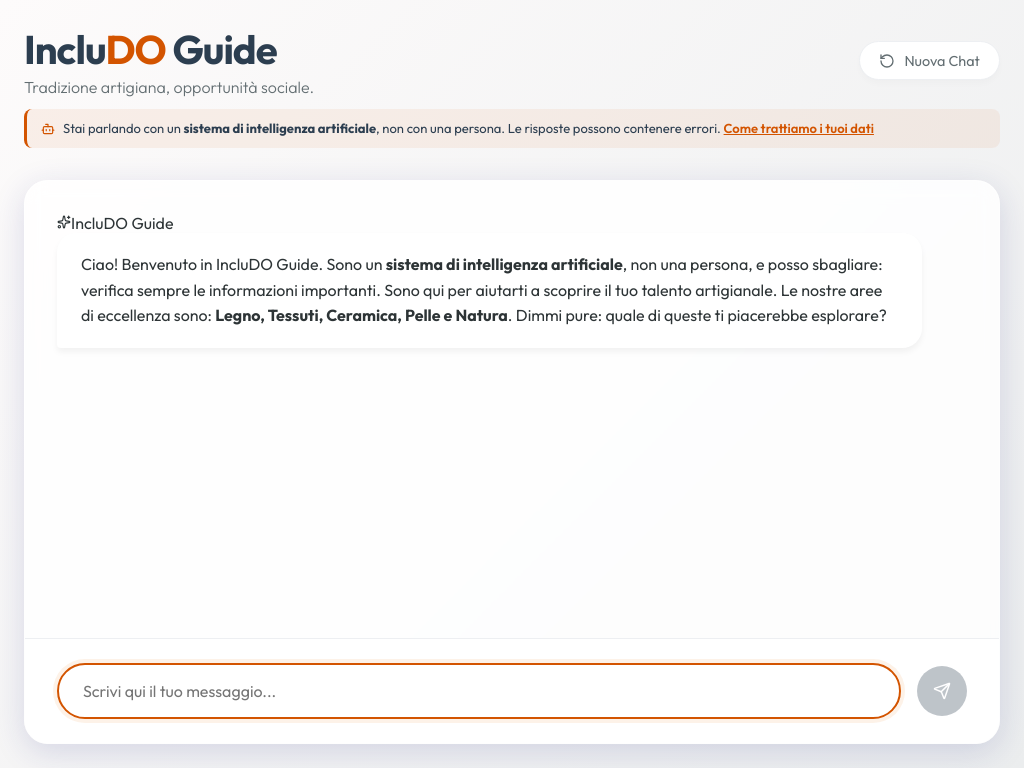
Test: IncluDO Frontend Integration & UX › shows a fallback error bubble when the chat request fails
The image size is (1024, 768).
Expected: the text "Le nostre aree di eccellenza sono" is shown, [81,254,882,325]
Step 1. Type "Messaggio che fallisce" into the field → (479, 691), box [57,663,901,719]
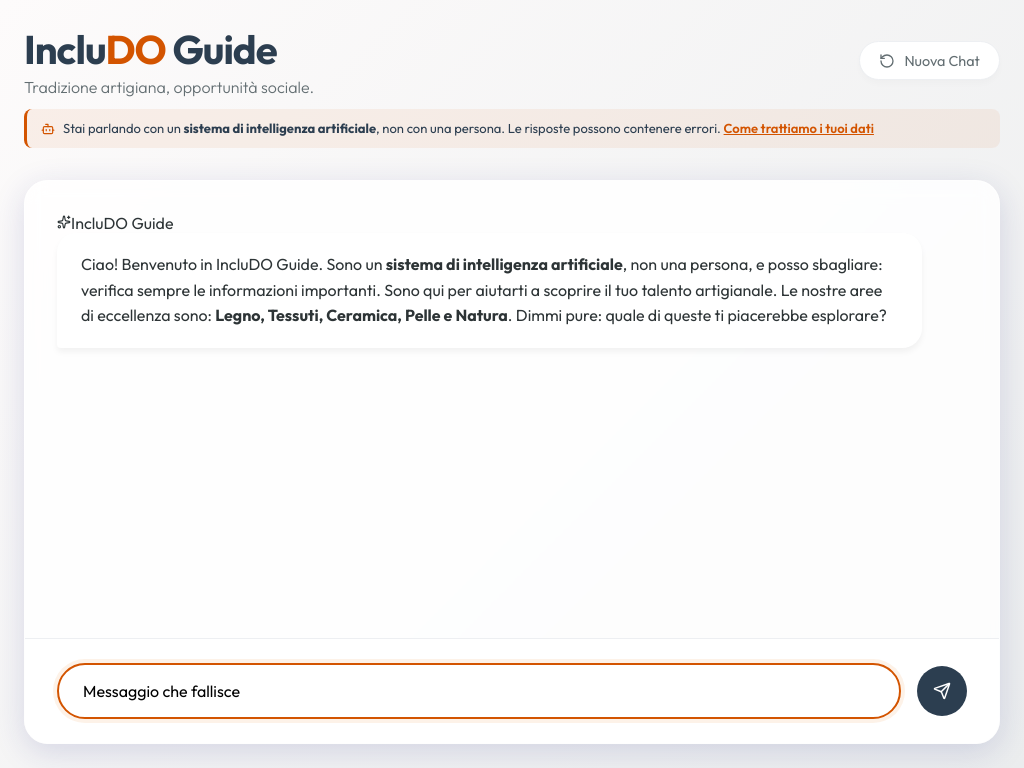
Step 2. Click the button named "Invia messaggio" → (942, 691), box [917,666,967,716]
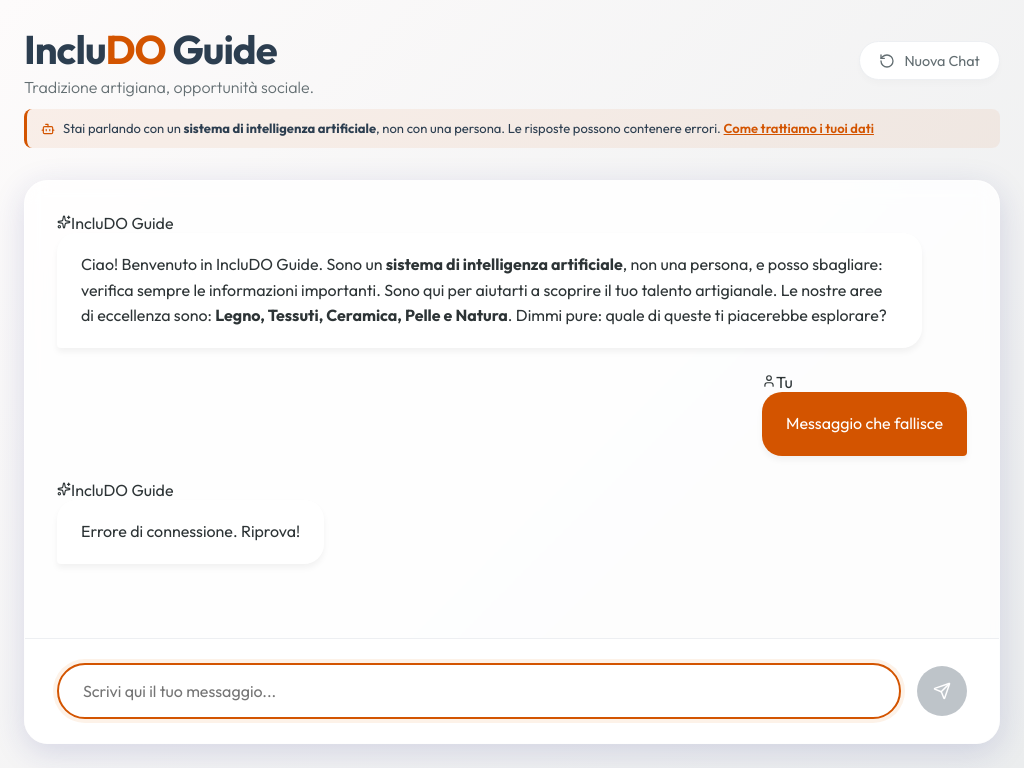
Now the text "Errore di connessione. Riprova!" is shown, box [81,519,300,545]
